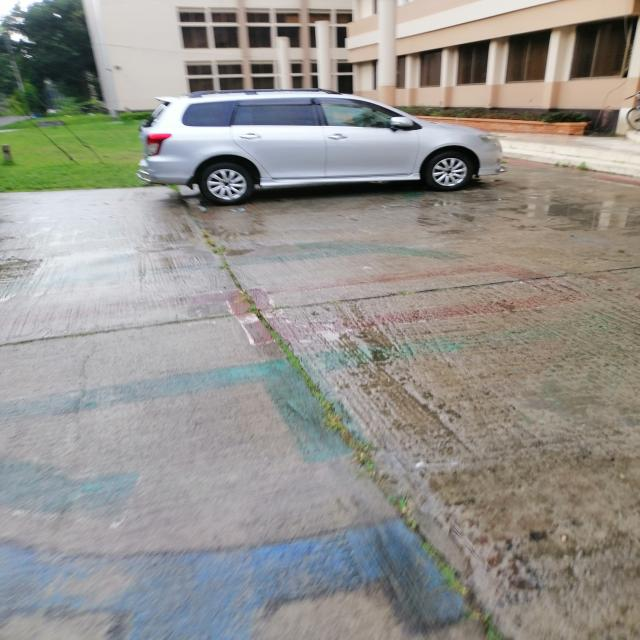Car: (136, 91, 510, 207)
